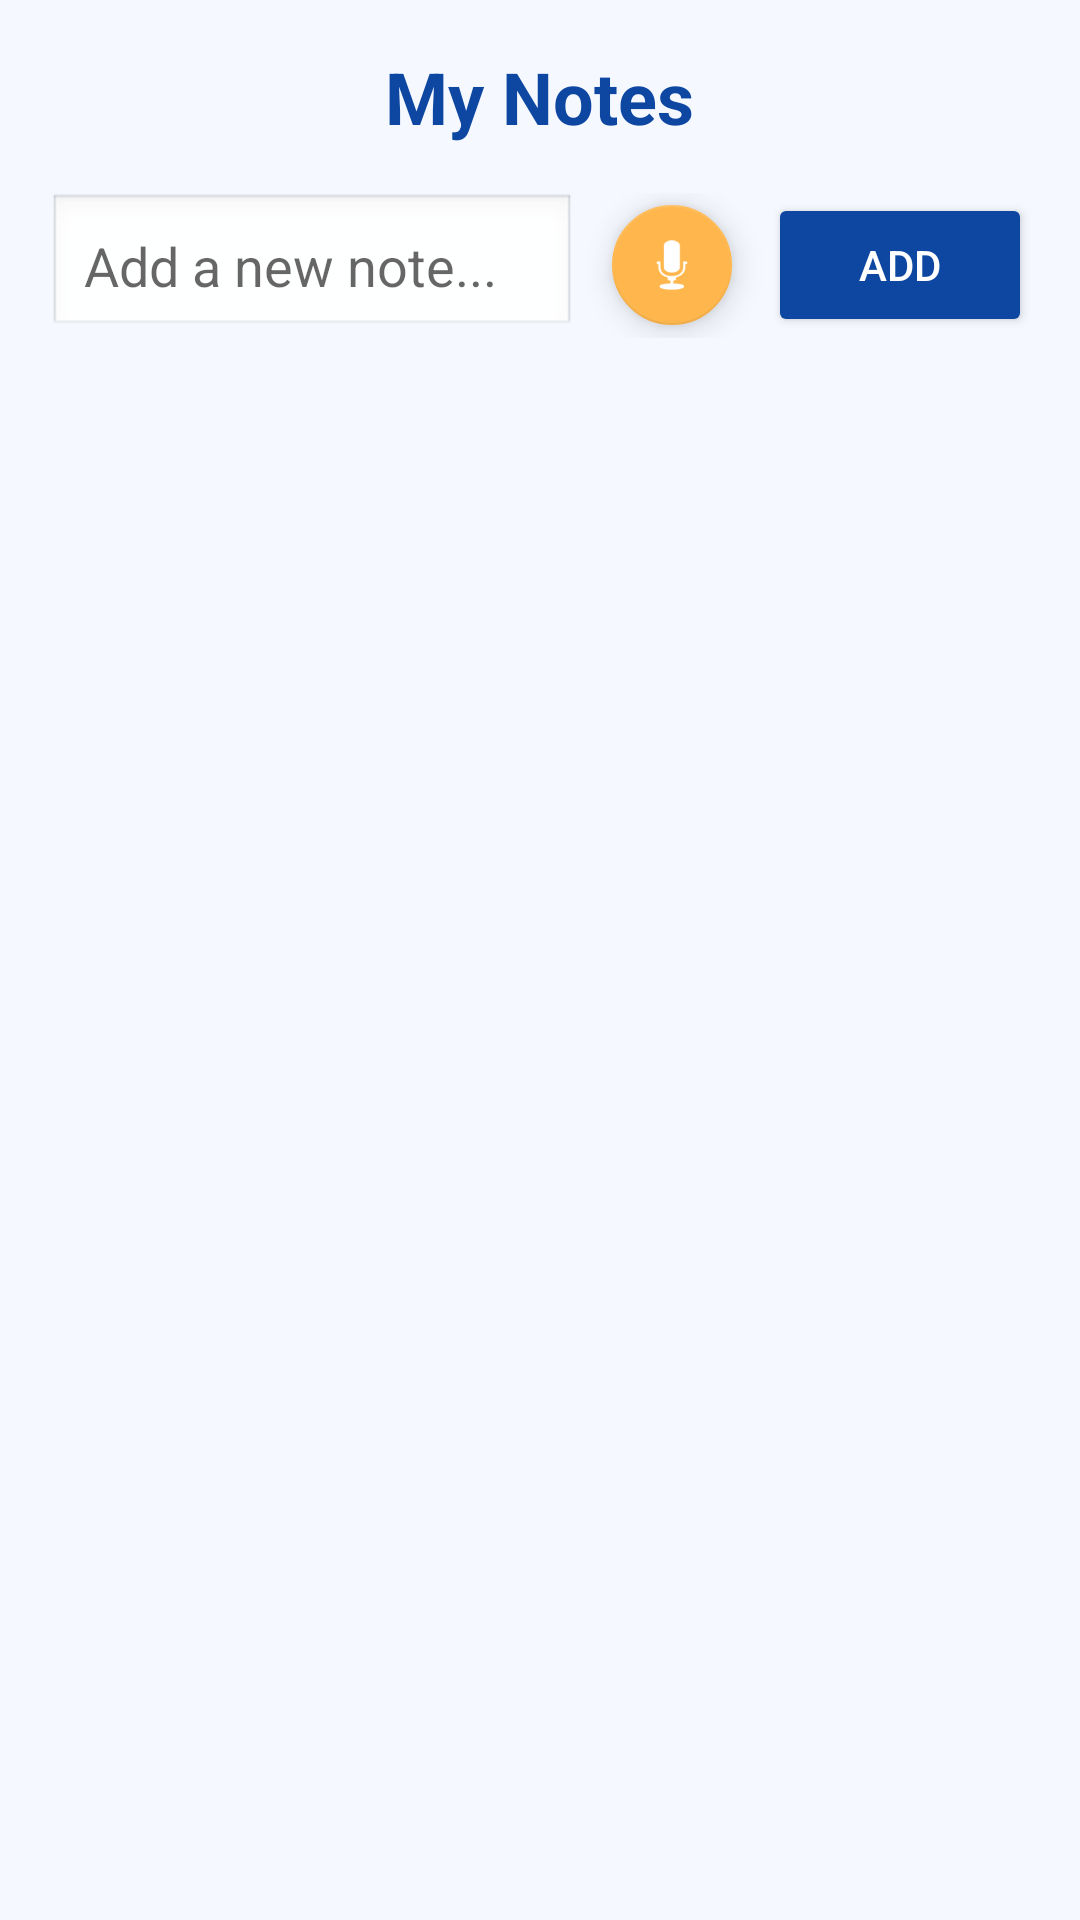

Icons on this 1080 x 1920 Android screen, each with its box as (x1, y1, x2, y2):
Record Voice: (612, 205, 732, 326)
